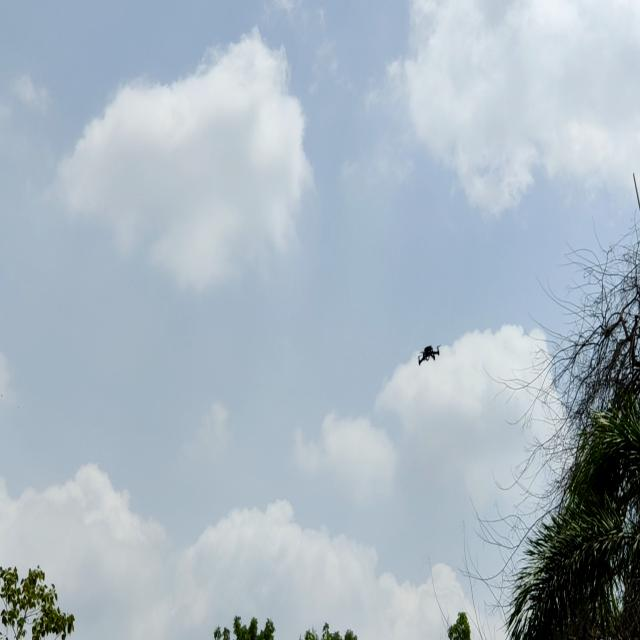drone: (413, 342, 444, 372)
